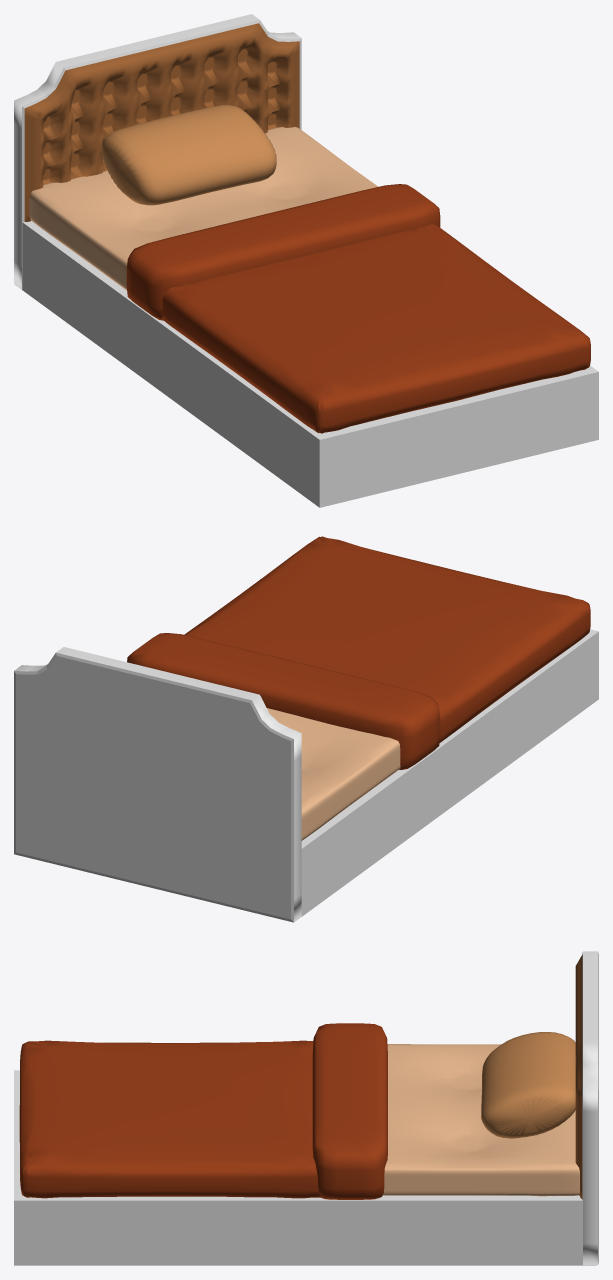
The model's file is bed_tier9.fbx.
3 renders of one model, top to bottom at view 1: azimuth 30°, elevation 25°; view 2: azimuth 150°, elevation 25°; view 3: azimuth 270°, elevation 25°, orthographic. The views are drawn at different scales.
Parts seen in each view (by area): view 1: Cube, Cube.002, Cube.001, Cylinder.012; view 2: Cube, Cube.002, Cube.001; view 3: Cube.002, Cube, Cube.001, Cylinder.012.
Boxes of the visible parts, <box> form: Cube: <box>14,14,598,507</box>; Cube.002: <box>126,184,590,433</box>; Cube.001: <box>29,127,378,290</box>; Cylinder.012: <box>102,105,276,205</box>; Cube: <box>14,629,598,922</box>; Cube.002: <box>127,536,590,769</box>; Cube.001: <box>267,708,400,840</box>; Cube.002: <box>19,1023,387,1199</box>; Cube: <box>14,951,598,1265</box>; Cube.001: <box>382,1044,579,1196</box>; Cylinder.012: <box>481,1032,575,1138</box>.
Bounding box in the file's own units: 196 × 137 × 358.
